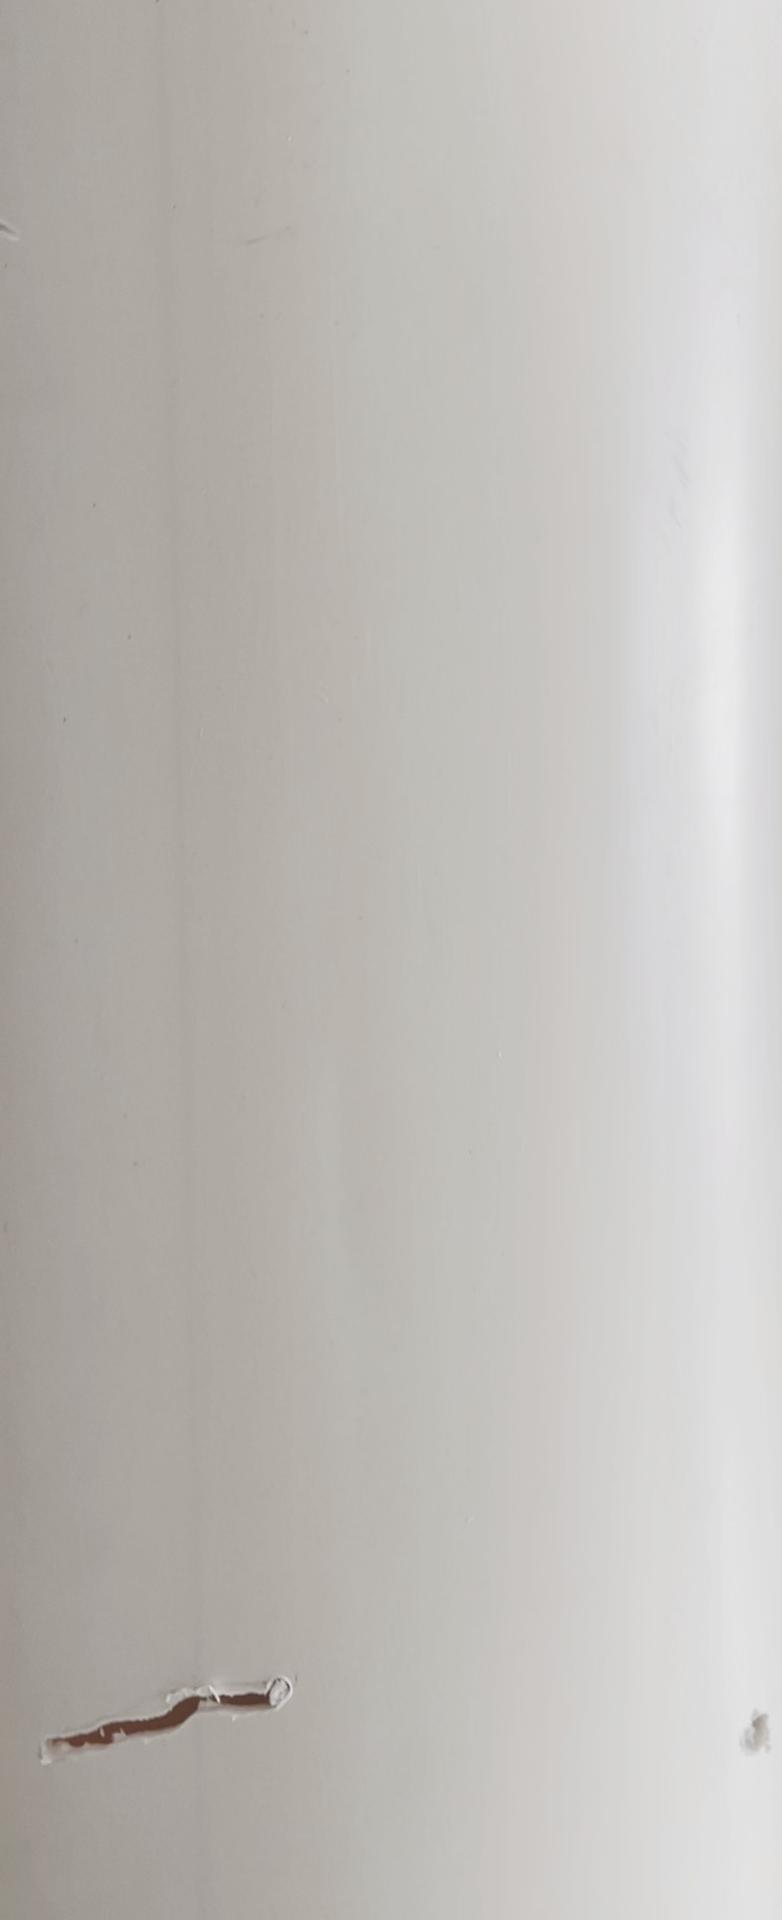fengxi: (24, 1663, 307, 1779)
kongdong: (740, 1695, 780, 1763)
